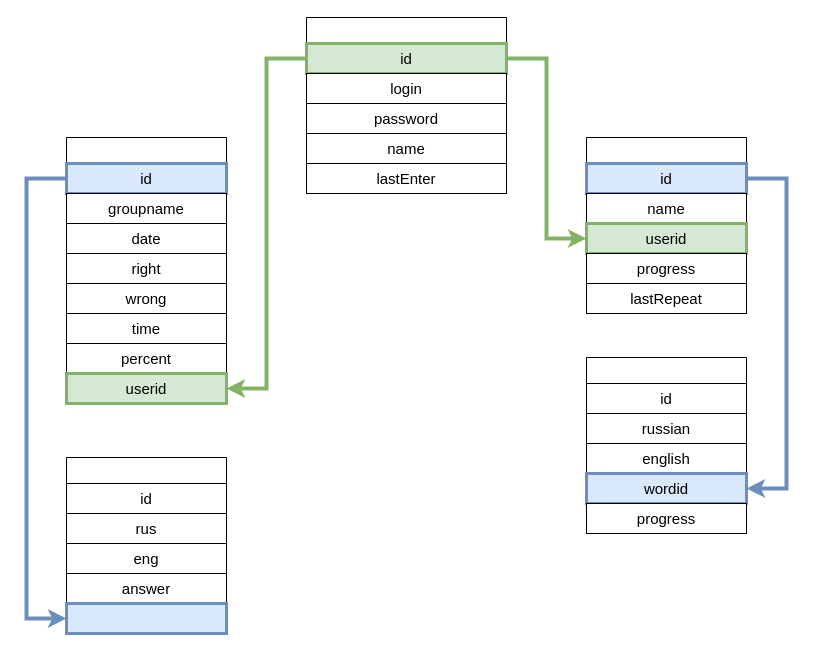
Some shapes in this 813 by 652 pixel diagram are drawn without their labels. Here are the shapes that lost their labels. From the top down, the box of each, then its label:
(306, 16, 506, 194): RegUsers
(586, 136, 746, 314): WordGroup
(66, 136, 226, 404): Result
(586, 356, 746, 534): Words
(66, 456, 226, 634): ResultMore
(64, 602, 228, 634): resultid
